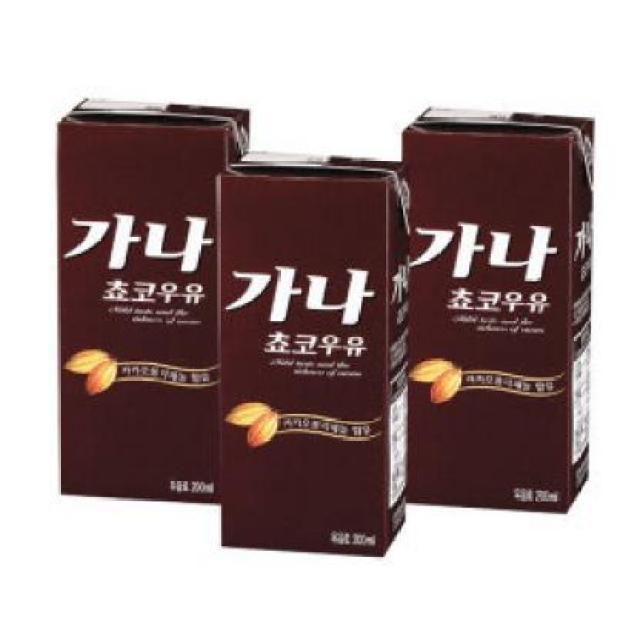tetra: (202, 137, 428, 558)
